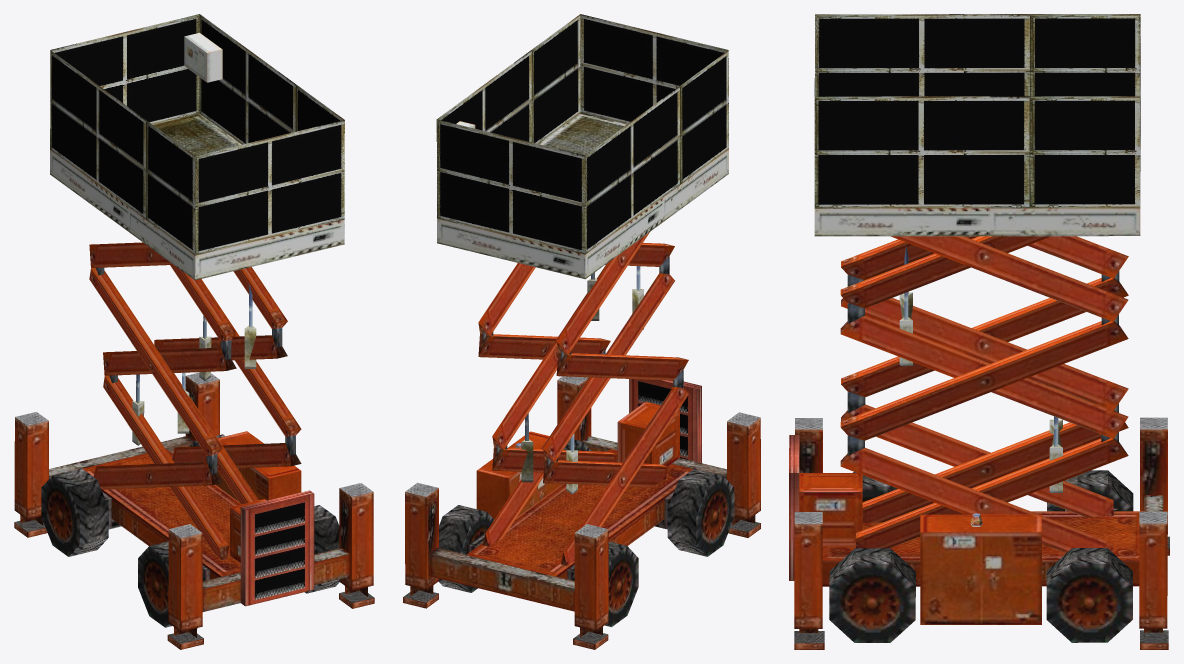
The model's file is p54_54_scissor_lift.glb.
3 renders of one model, left to right at view 1: azimuth 30°, elevation 25°; view 2: azimuth 150°, elevation 25°; view 3: azimuth 270°, elevation 25°, orthographic. The views are drawn at different scales.
Parts seen in each view (by area): view 1: Body_1, Body_2; view 2: Body_1, Body_2; view 3: Body_1, Body_2.
Boxes of the visible parts, x1,y1,x2,y2 form: Body_1: (14,32,374,649); Body_2: (50,14,344,606); Body_1: (403,113,760,649); Body_2: (436,14,728,462); Body_1: (794,144,1169,649); Body_2: (789,14,1140,580).
Bounding box in the file's own units: 2.11 × 5 × 3.18.
2 materials, 2 textured.
